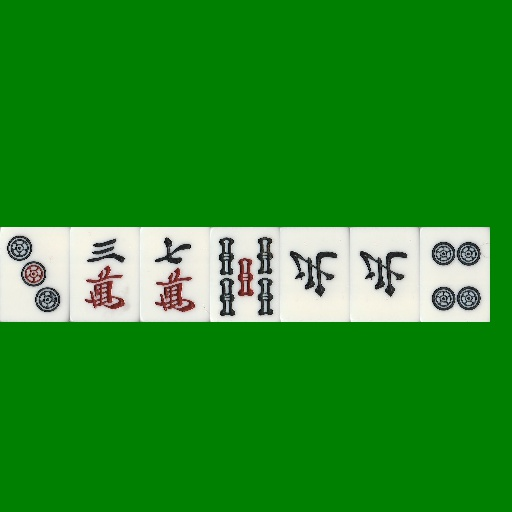3m: (70, 227, 140, 322)
3p: (0, 227, 70, 322)
4p: (420, 227, 490, 322)
5s: (210, 227, 280, 322)
7m: (140, 227, 210, 322)
north: (280, 227, 350, 322), (350, 227, 420, 322)
